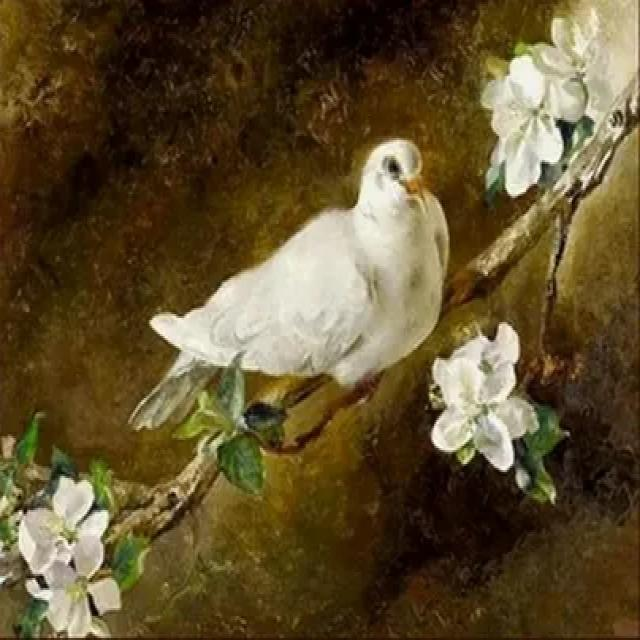pigeon: (141, 133, 455, 401)
